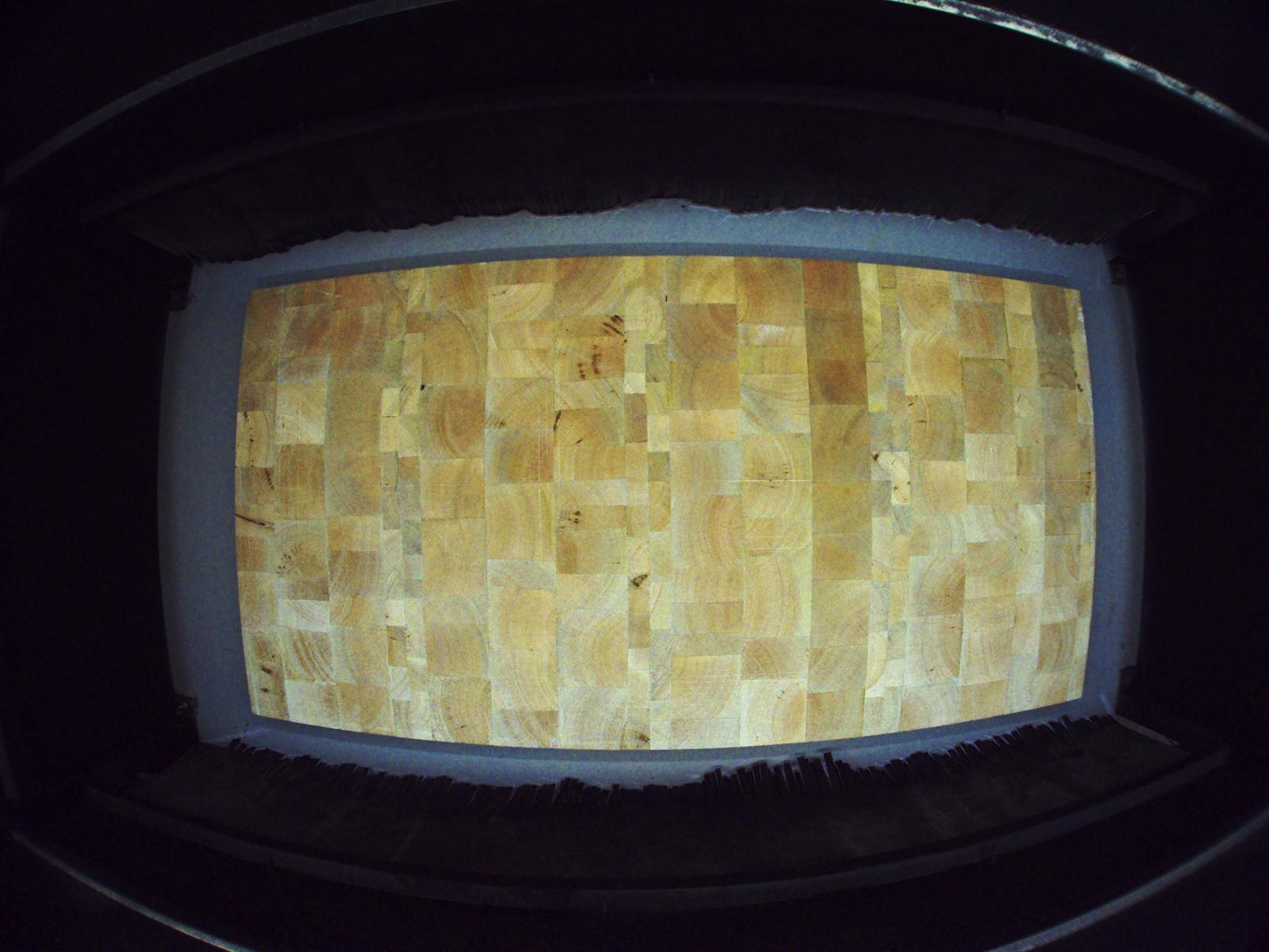nudillo: (235, 512, 275, 532)
